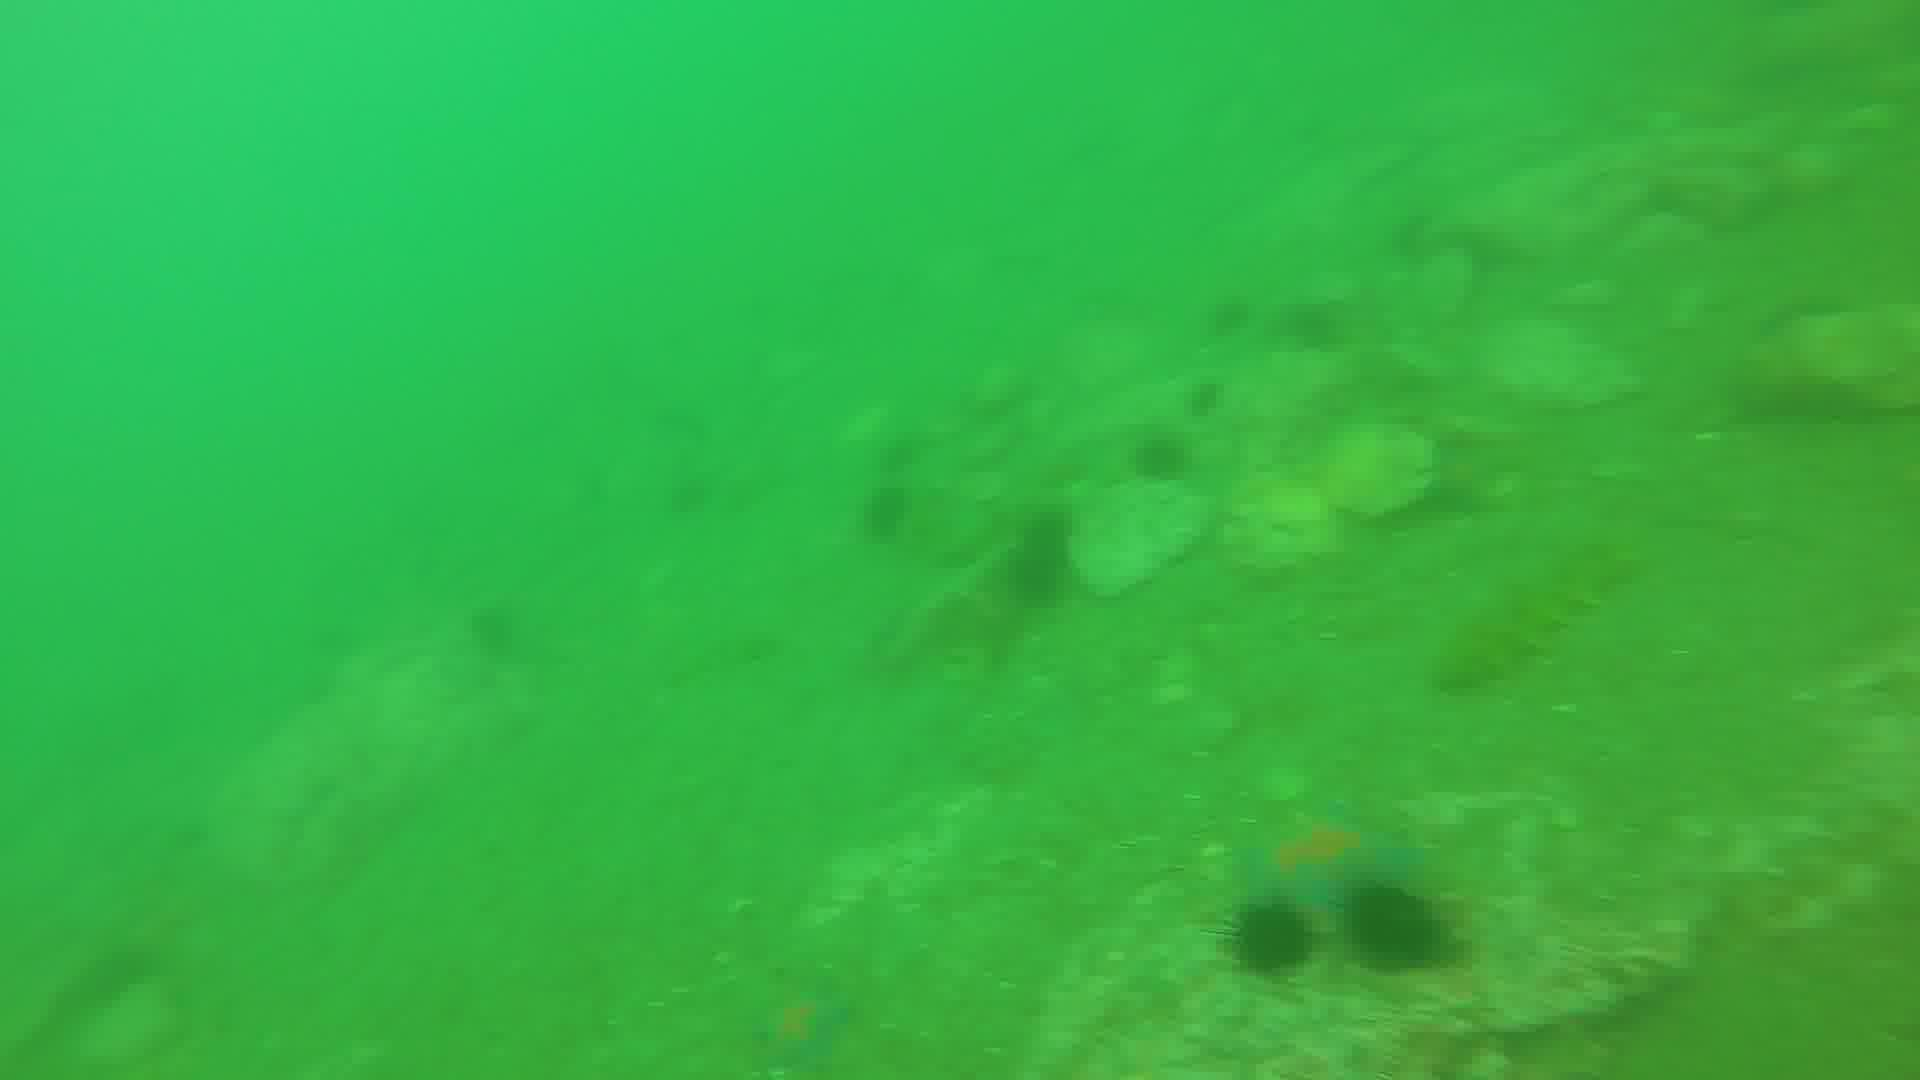echinus: (1346, 889, 1448, 965), (1232, 901, 1312, 985), (855, 477, 909, 542), (1139, 443, 1188, 496), (1014, 555, 1062, 608), (1184, 375, 1226, 415)
holothurian: (1444, 535, 1636, 690)
starfish: (1226, 804, 1418, 932), (754, 982, 858, 1077)
